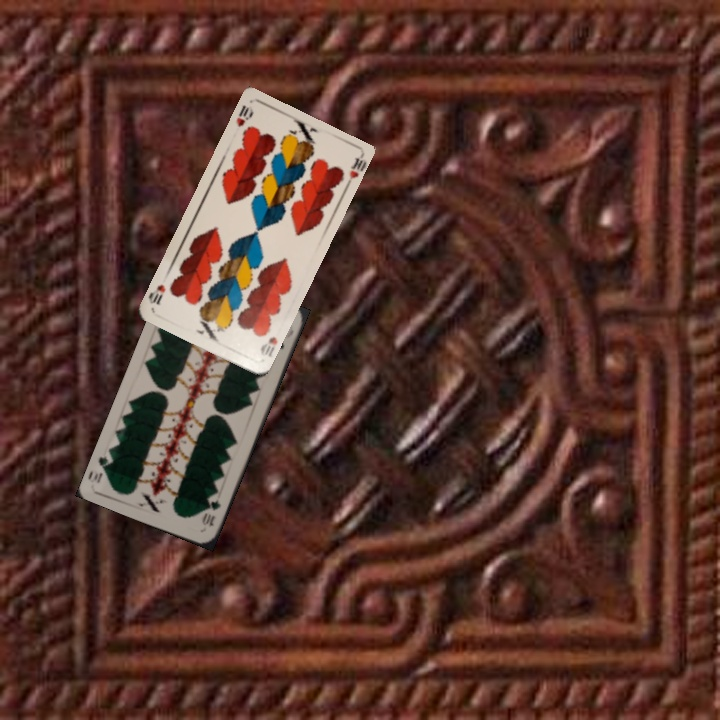G10: (198, 495, 224, 530)
H10: (232, 101, 256, 129), (256, 333, 280, 359)
